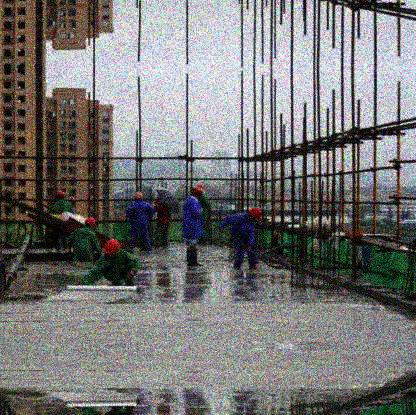helmet: (103, 241, 122, 260), (245, 204, 263, 224), (191, 185, 207, 201), (84, 216, 99, 231), (55, 189, 68, 201)
